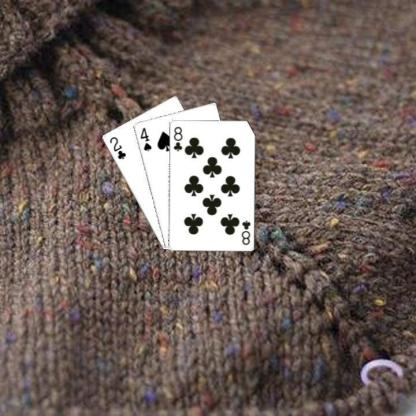2C: (107, 134, 127, 161)
4S: (138, 125, 152, 152)
8C: (171, 124, 183, 152), (239, 218, 251, 246)
